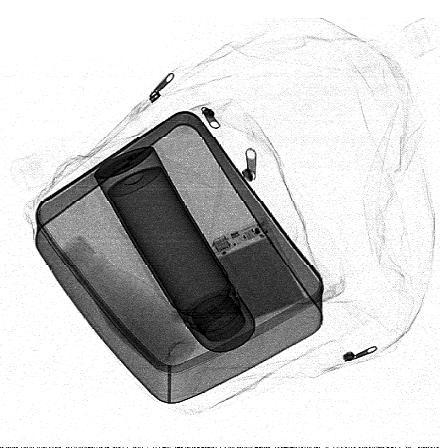Powerbank: (210, 217, 309, 329)
